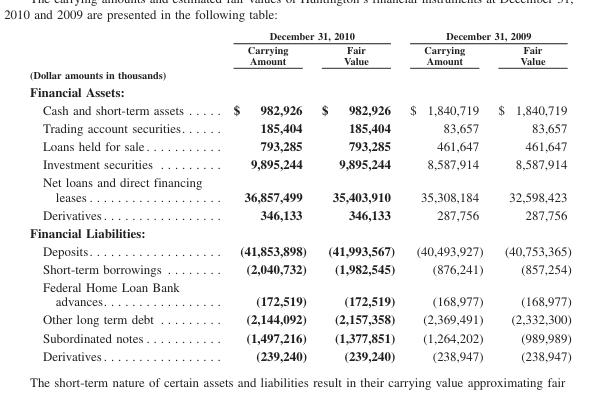table: (28, 29, 570, 362)
table column: (28, 29, 217, 362), (217, 29, 313, 362), (401, 29, 490, 362), (313, 29, 401, 362), (490, 29, 570, 362)
table column header: (28, 29, 570, 67)
table projected row header: (28, 82, 570, 100), (28, 223, 570, 241), (28, 67, 570, 82)
table row: (28, 173, 570, 205), (28, 277, 570, 309), (28, 42, 570, 67), (28, 154, 570, 173), (28, 82, 570, 100), (28, 100, 570, 118), (28, 118, 570, 136), (28, 136, 570, 154), (28, 205, 570, 223), (28, 223, 570, 241), (28, 241, 570, 259), (28, 259, 570, 277), (28, 309, 570, 327), (28, 327, 570, 345), (28, 345, 570, 362), (28, 67, 570, 82), (28, 29, 570, 42)
table spanning cell: (217, 29, 401, 42), (401, 29, 570, 42)
